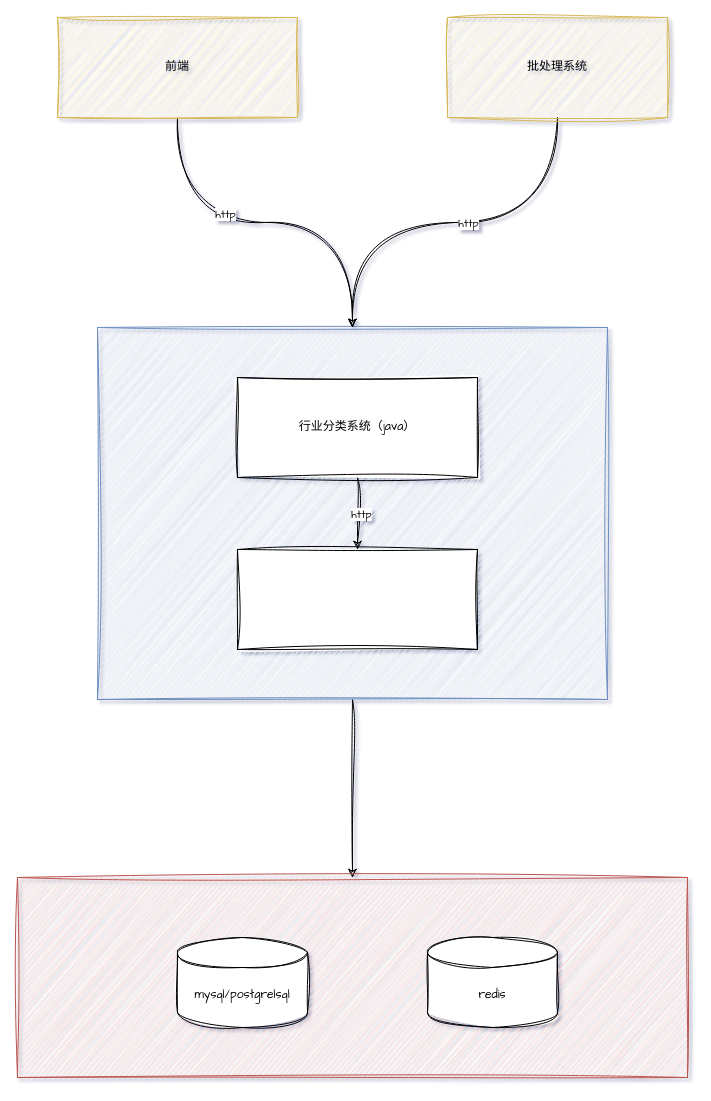
This 711x1101 diagram has some shape labels left out. Each missing label, with the box of its shape:
存储: (16, 876, 688, 1078)
行业分类语义处理系统（python）: (236, 548, 478, 650)
